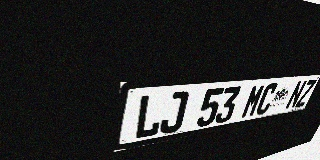3: (213, 86, 242, 124)
5: (195, 88, 224, 128)
C: (254, 83, 279, 116)
J: (158, 91, 189, 135)
L: (133, 93, 166, 140)
M: (240, 84, 266, 119)
N: (284, 80, 308, 110)
Z: (294, 79, 317, 108)
